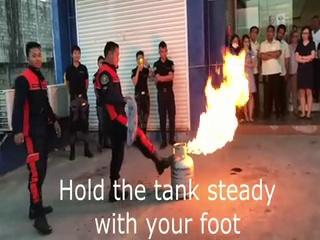Fire: (186, 32, 250, 154)
